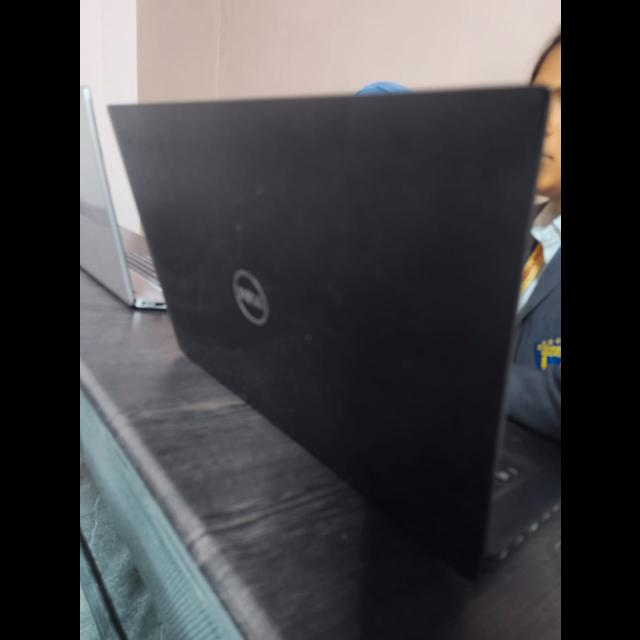laptop: (87, 83, 561, 572)
